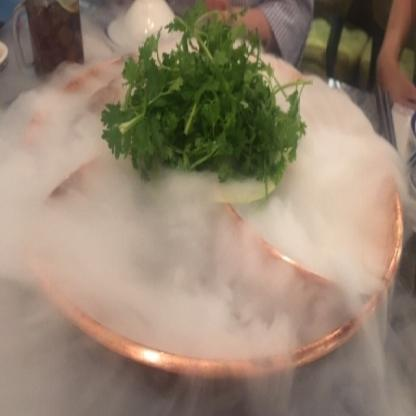smoke: (2, 42, 416, 416)
